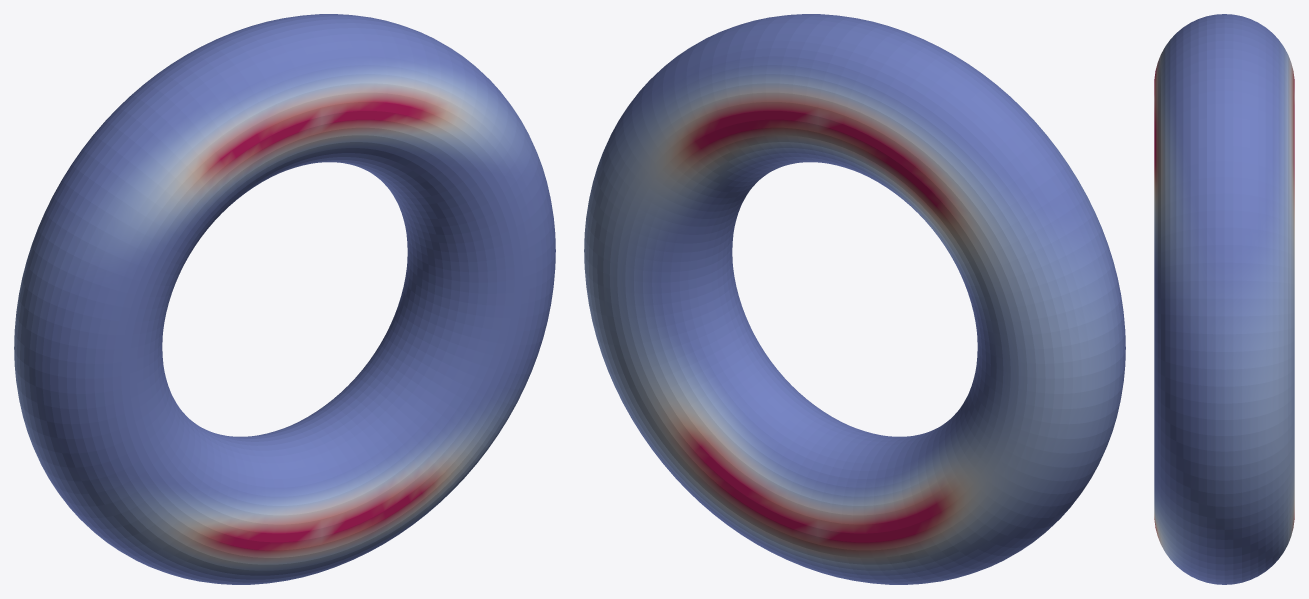
3 renders of one model, left to right at view 1: azimuth 30°, elevation 25°; view 2: azimuth 150°, elevation 25°; view 3: azimuth 270°, elevation 25°, orthographic. The views are drawn at different scales.
Visible parts, largest first — view 1: world; view 2: world; view 3: world.
Part boxes in pixels (x1=…): world: x1=14, y1=14, x2=555, y2=584; world: x1=584, y1=14, x2=1125, y2=584; world: x1=1154, y1=14, x2=1294, y2=584.
Bounding box in the file's own units: 16.8 × 16.8 × 4.13.
